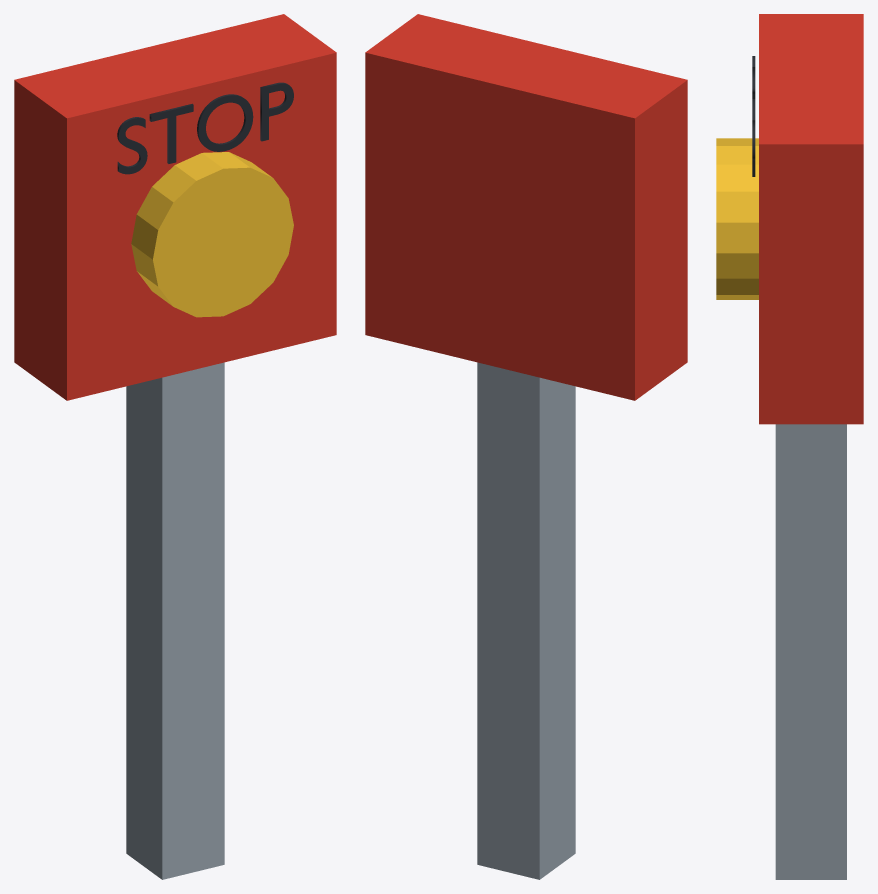
File: brake_panel.glb
The picture shows the model from 3 angles, left to right: view 1: azimuth 30°, elevation 25°; view 2: azimuth 150°, elevation 25°; view 3: azimuth 270°, elevation 25°; orthographic projection.
Parts seen in each view (by area): view 1: Emergency_red_panel, Stand, Emergency_button, Label_STOP; view 2: Emergency_red_panel, Stand; view 3: Emergency_red_panel, Stand, Emergency_button, Label_STOP.
Part boxes in pixels (x1,y1,x2,y2): Emergency_red_panel: (14, 14, 336, 400); Stand: (126, 362, 224, 879); Emergency_button: (131, 152, 293, 317); Label_STOP: (117, 82, 293, 174); Emergency_red_panel: (365, 14, 687, 400); Stand: (477, 362, 575, 879); Emergency_red_panel: (759, 14, 863, 424); Stand: (775, 424, 846, 879); Emergency_button: (716, 138, 758, 299); Label_STOP: (752, 56, 755, 176).
Bounding box in the file's own units: 0.65 × 1.82 × 0.31.
